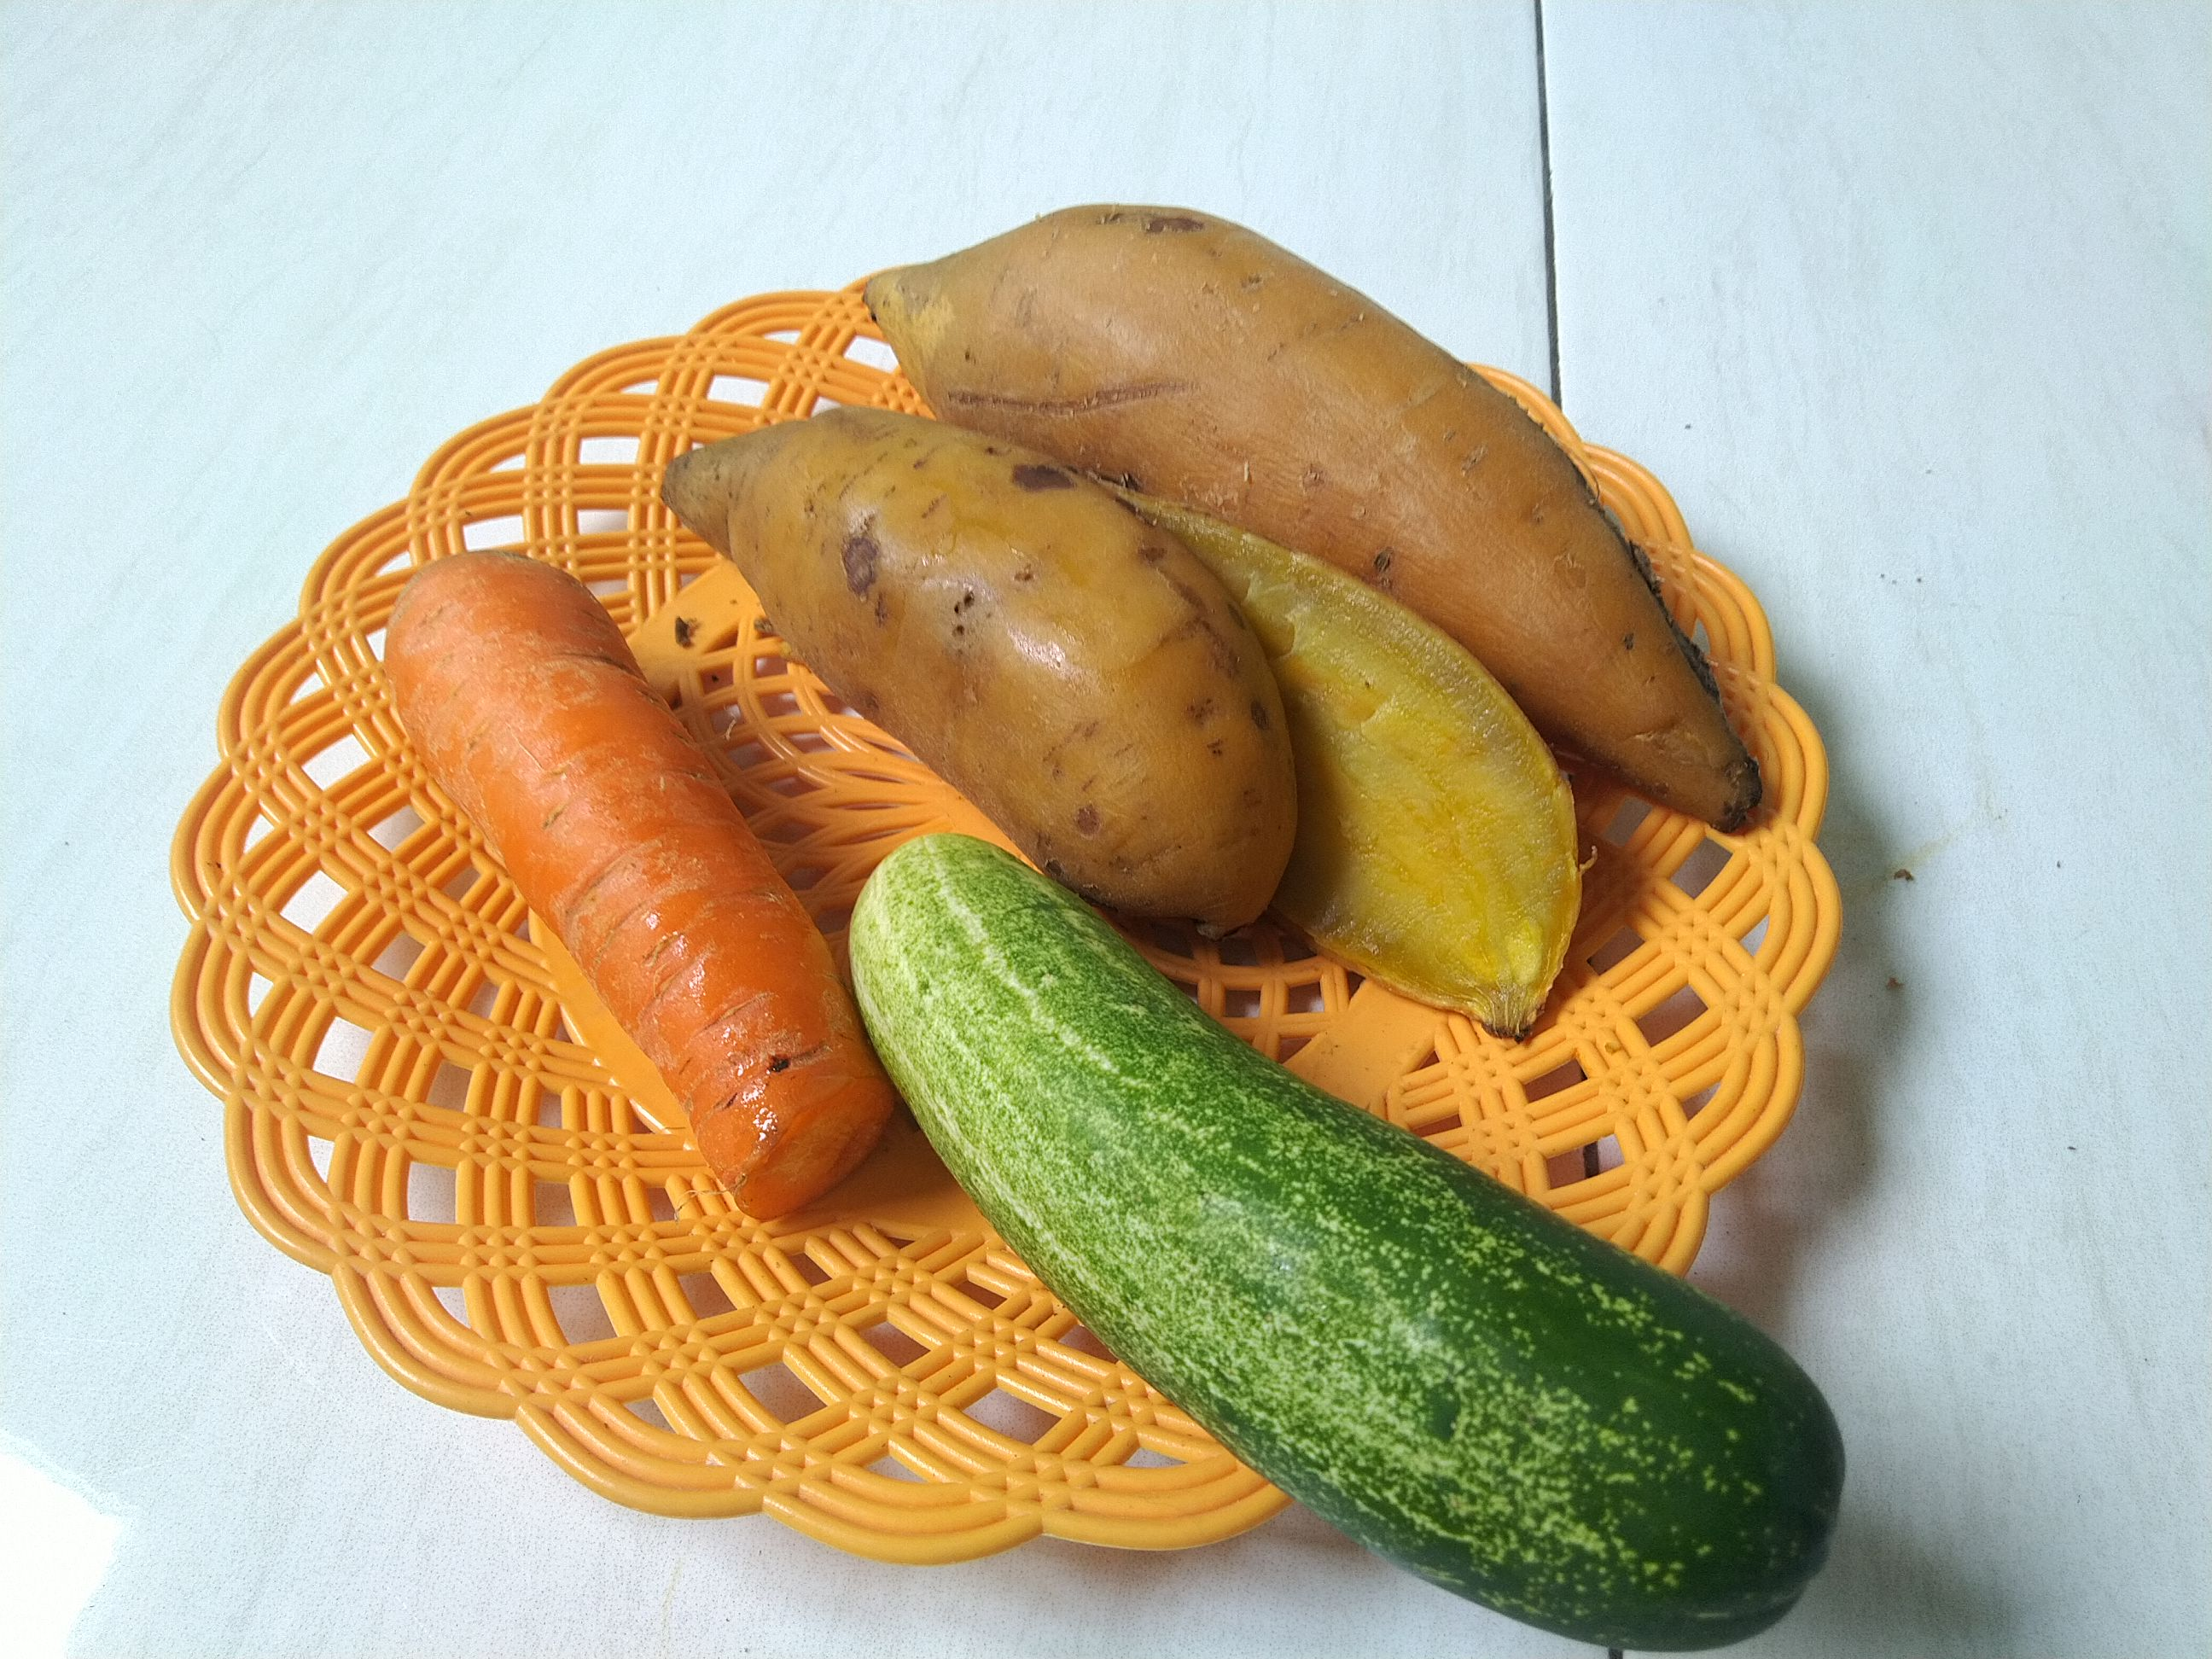ubi cilembu: (852, 190, 1832, 864), (653, 403, 1289, 948), (1064, 469, 1587, 1047)
